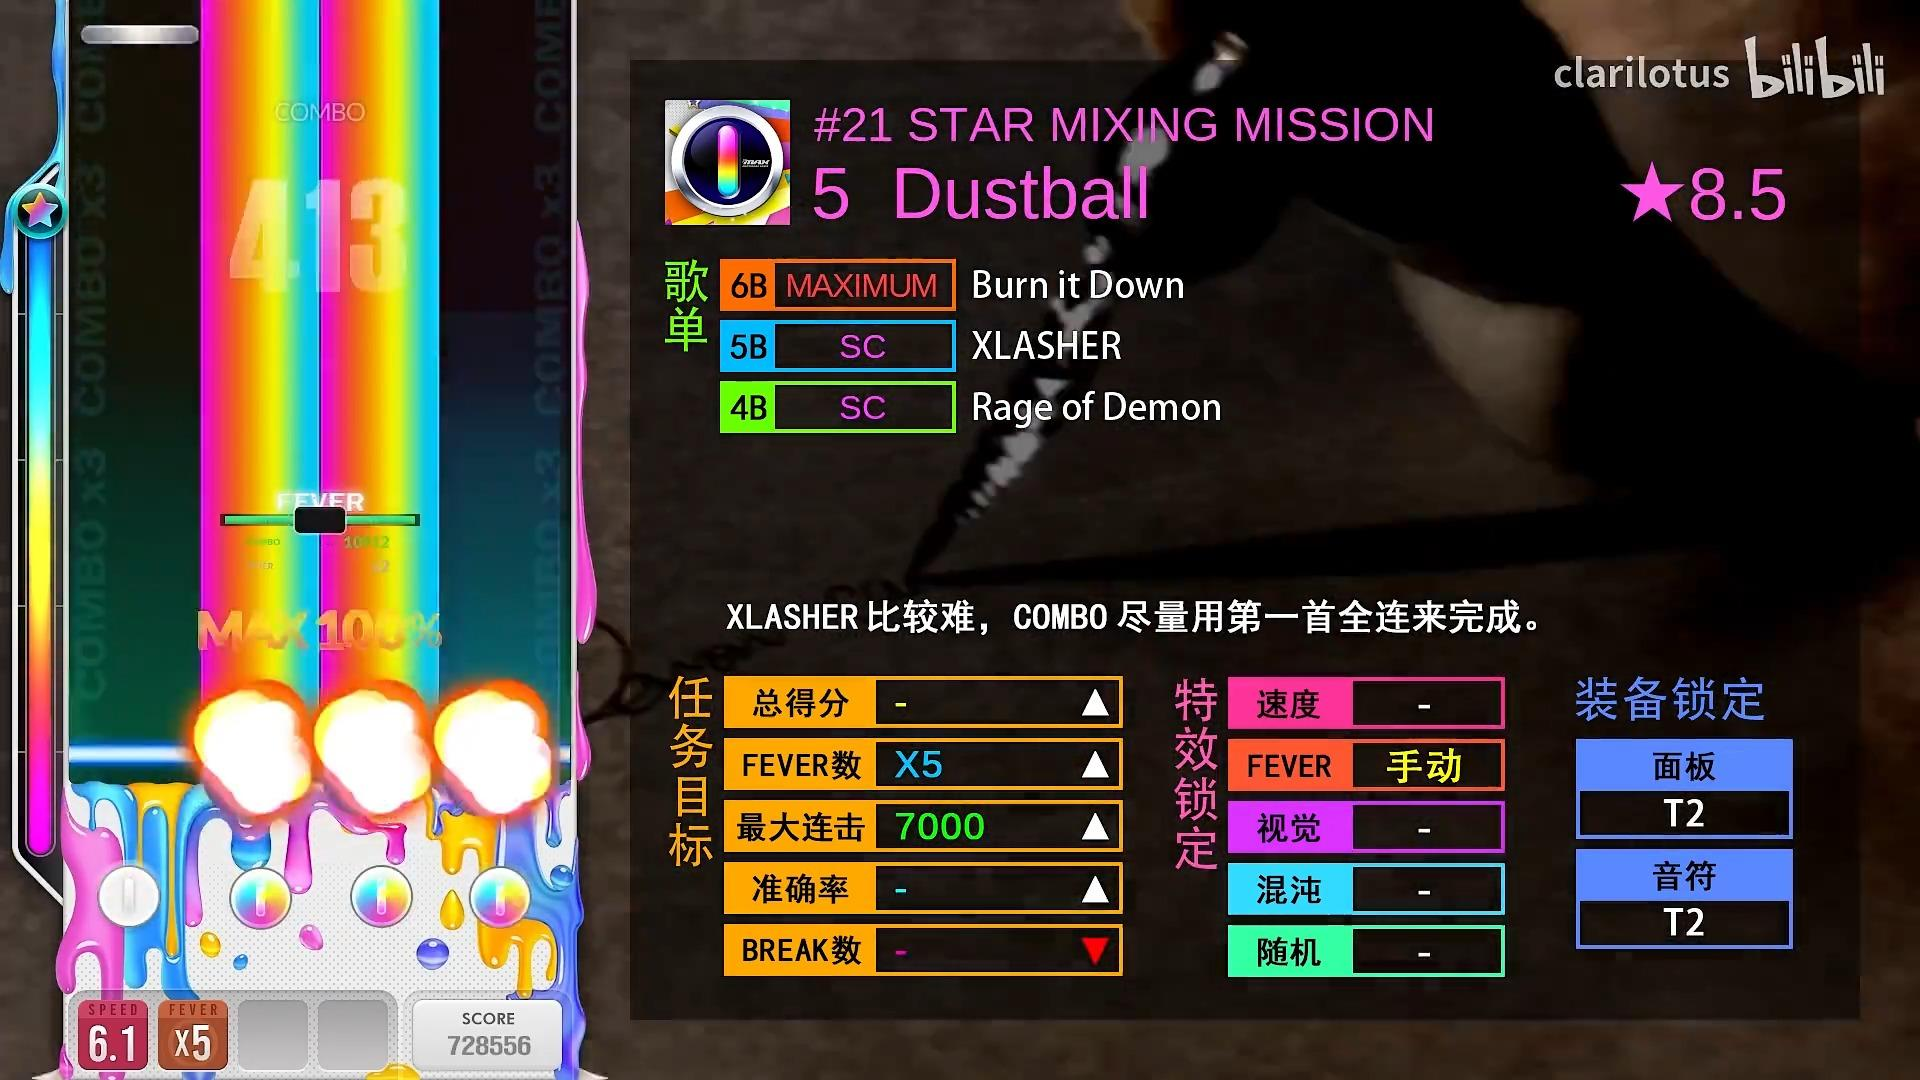note: (81, 24, 198, 46)
